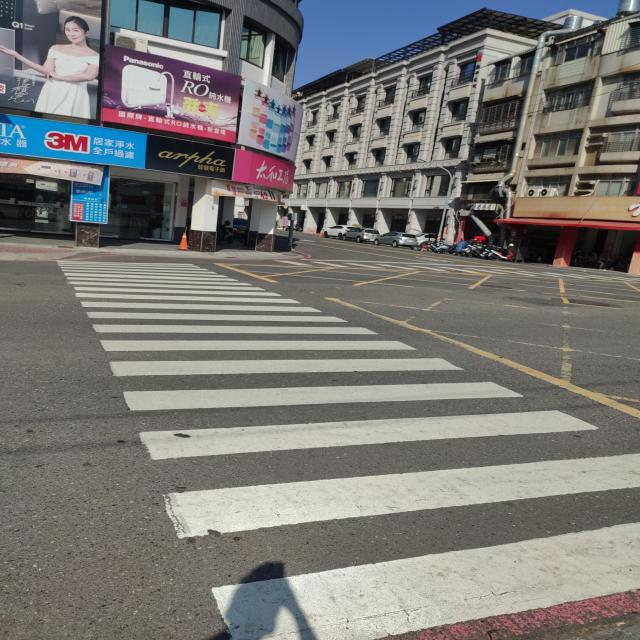zebra crossing: (61, 259, 640, 640), (274, 261, 636, 280)
